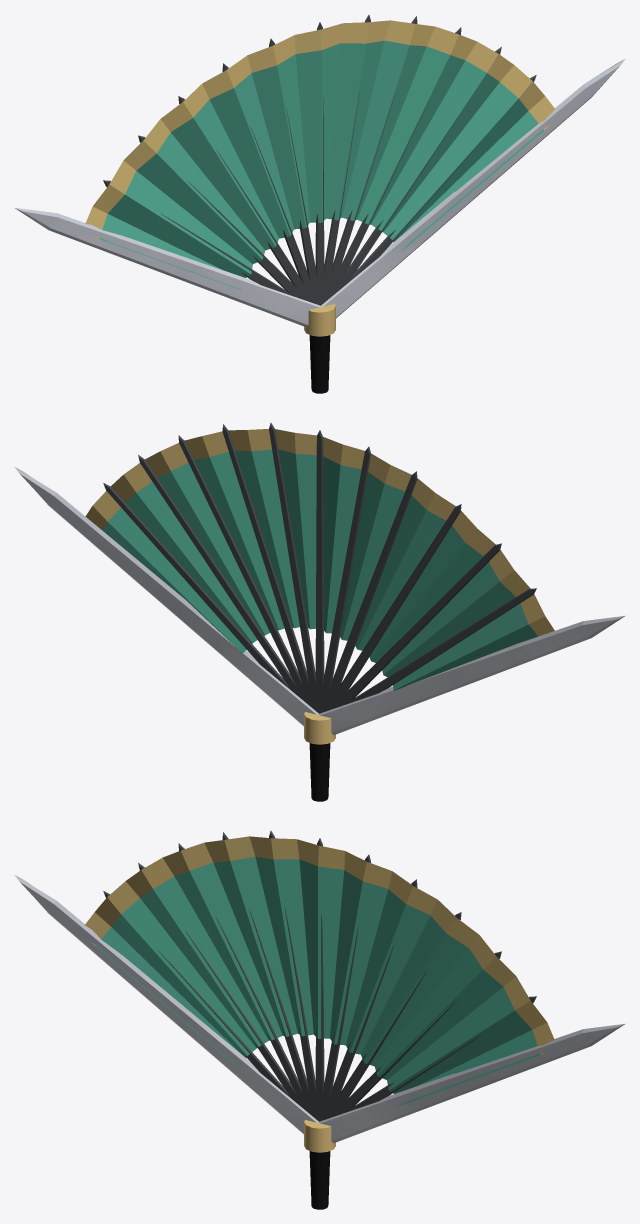
File: fan.glb
3 views of the same model, one above another, from view 1: azimuth 30°, elevation 25°; view 2: azimuth 150°, elevation 25°; view 3: azimuth 330°, elevation 25° (orthographic).
Visible parts, largest first — view 1: fan; view 2: fan; view 3: fan.
Part boxes in pixels (box(x1,y1,x2,y2)): fan: box(14, 14, 625, 393); fan: box(14, 422, 625, 801); fan: box(14, 830, 625, 1209).
Size of the model in its own units: 1.33 by 0.7646 by 0.06.
Materials: 6 (2 with a texture image).
